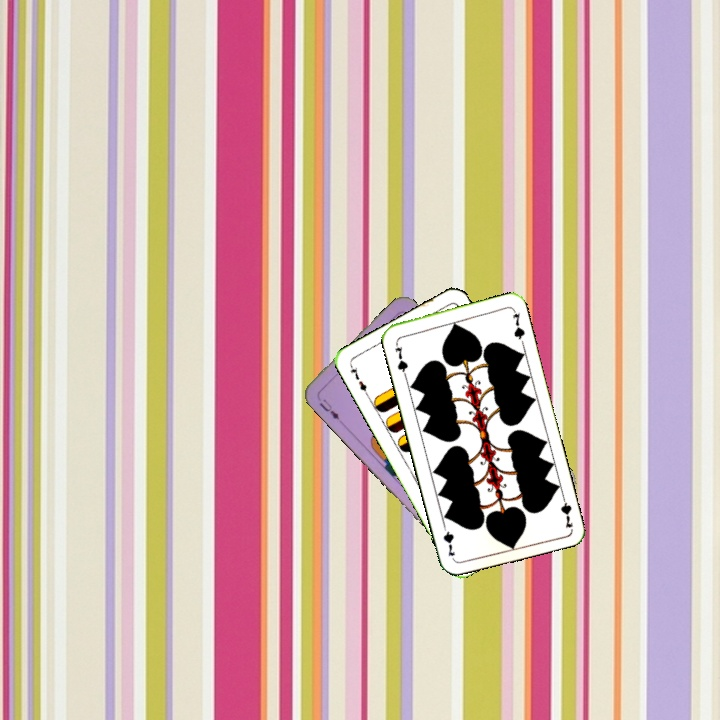E7: (346, 361, 371, 398)
EU: (315, 395, 342, 422)
G7: (391, 337, 411, 378), (556, 489, 575, 530)
